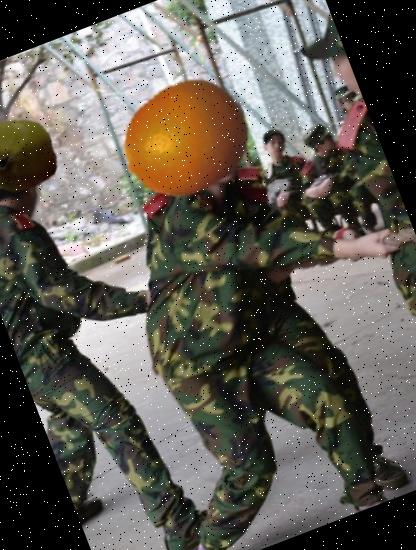Apple: (0, 103, 71, 208)
Grapefruit: (103, 56, 270, 222)
